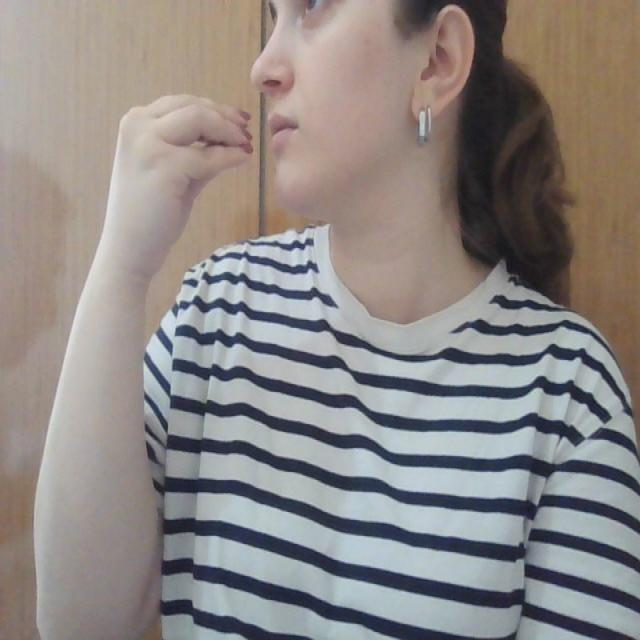Yemek: (104, 90, 295, 168)
